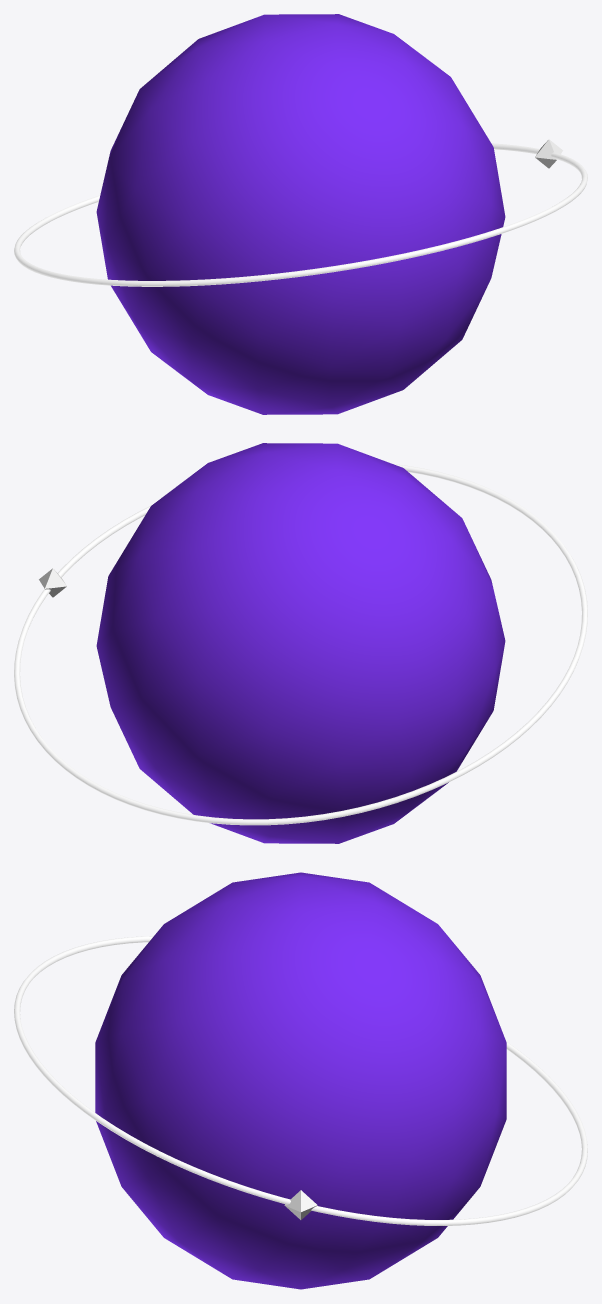
Rendered from globe.glb.
The picture shows the model from 3 angles, top to bottom: view 1: azimuth 30°, elevation 25°; view 2: azimuth 150°, elevation 25°; view 3: azimuth 270°, elevation 25°; orthographic projection. The views are drawn at different scales.
Bounding box in the file's own units: 2.89 × 1.96 × 2.73.
